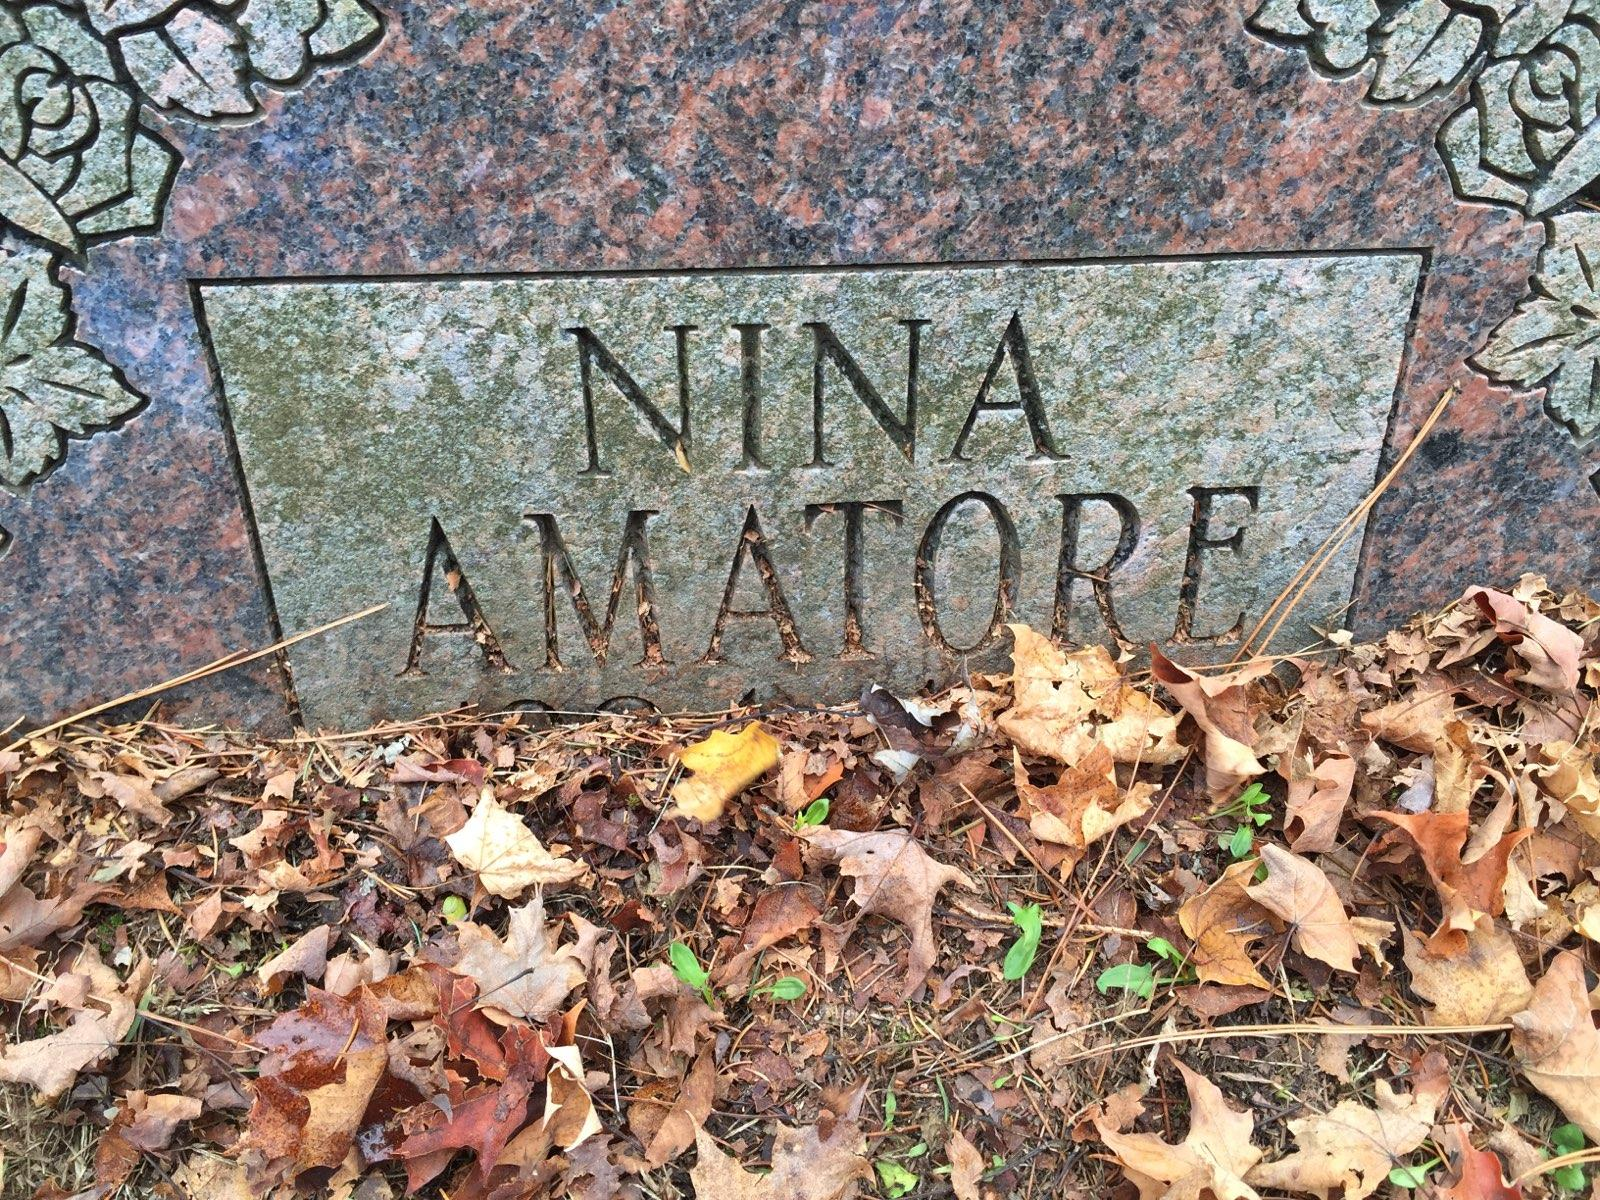flat: (3, 0, 1600, 726)
